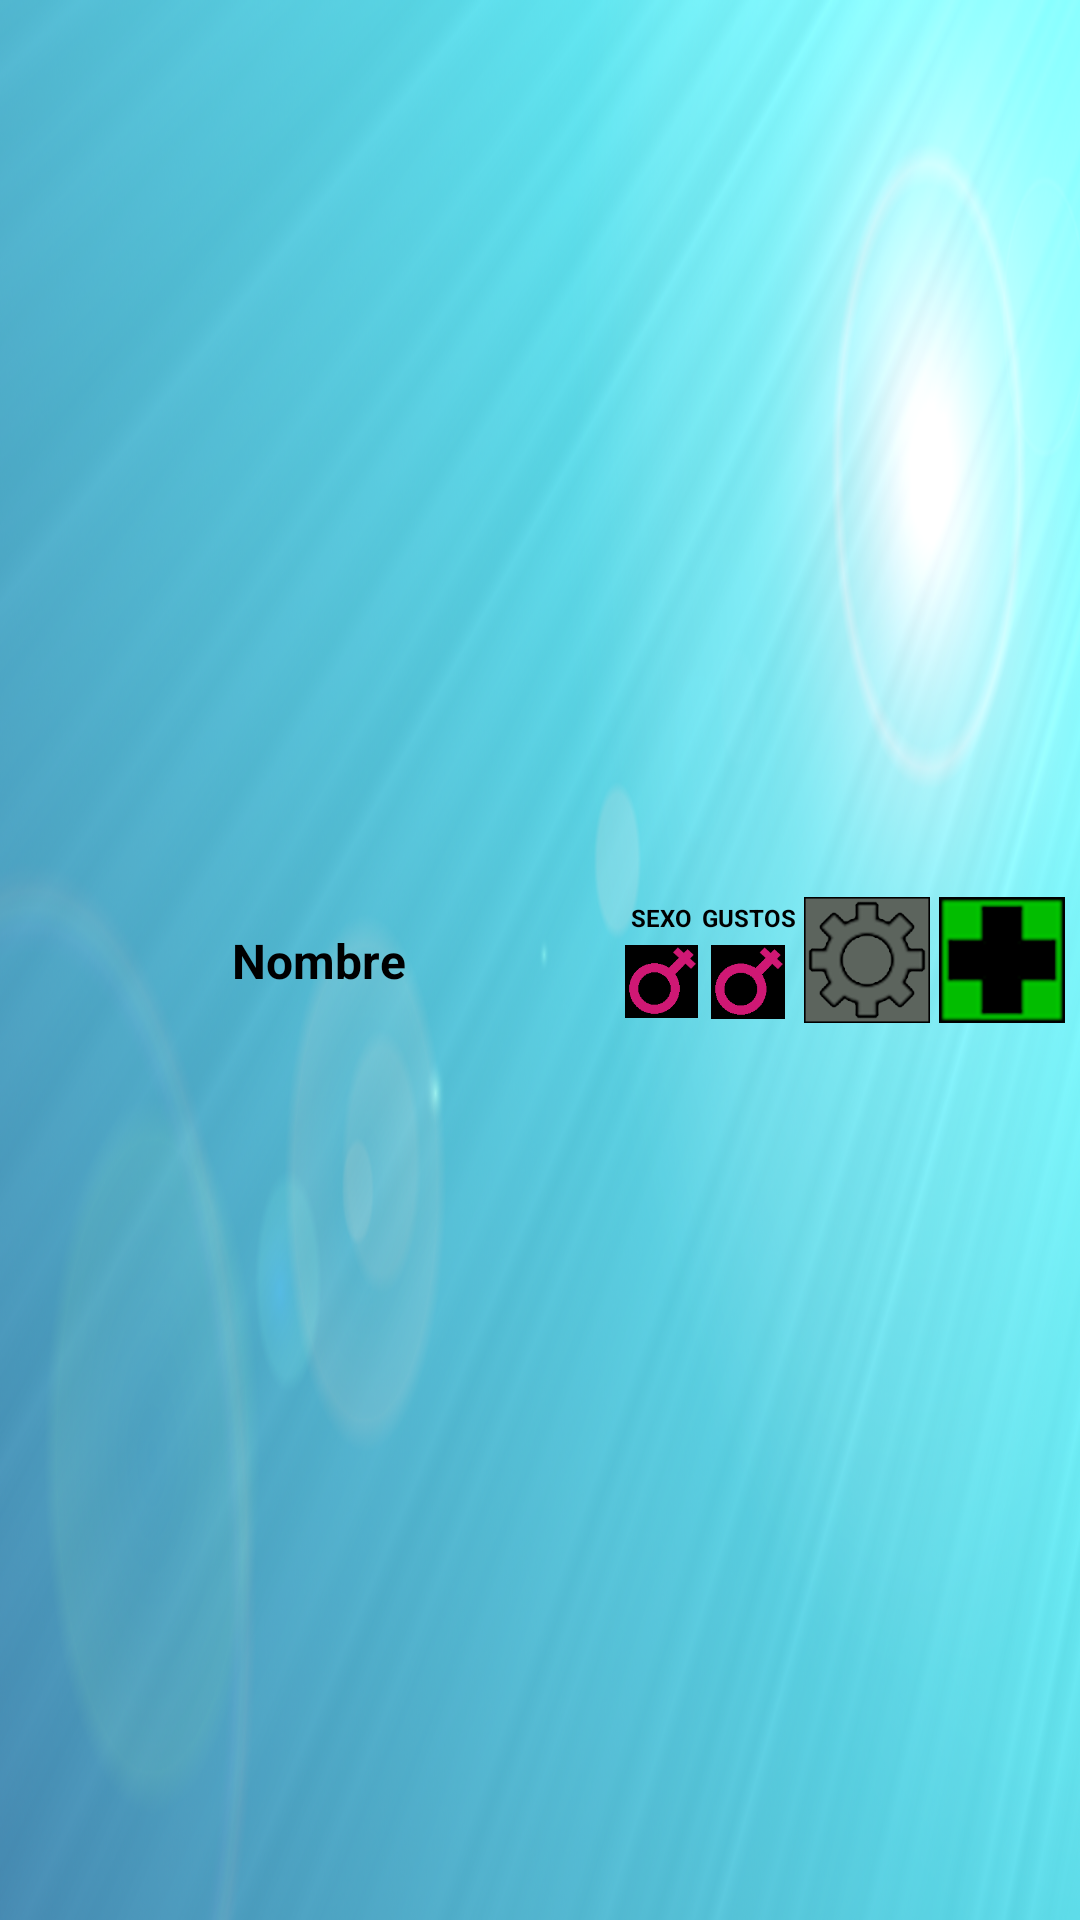

Icon click points for this 1080px x 1920px phone screenshot, format point (x, y):
chica: point (661, 981), point (748, 982)
mas: point (1002, 960)
opciones: point (867, 960)
